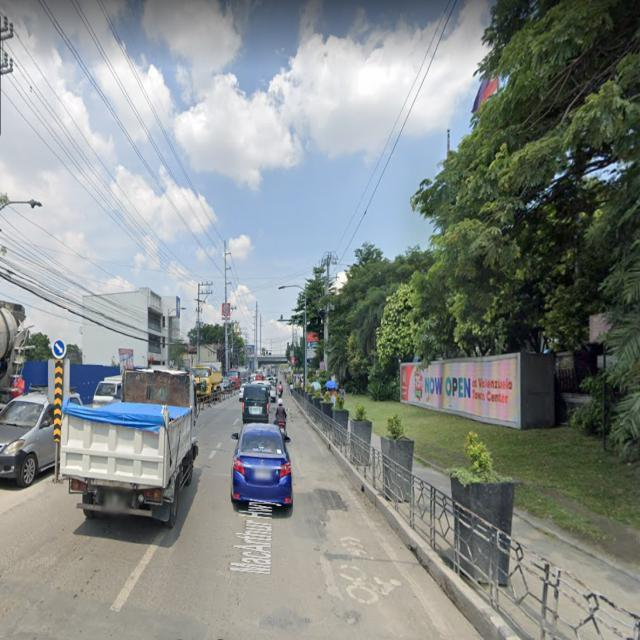keep right: (51, 336, 71, 366)
